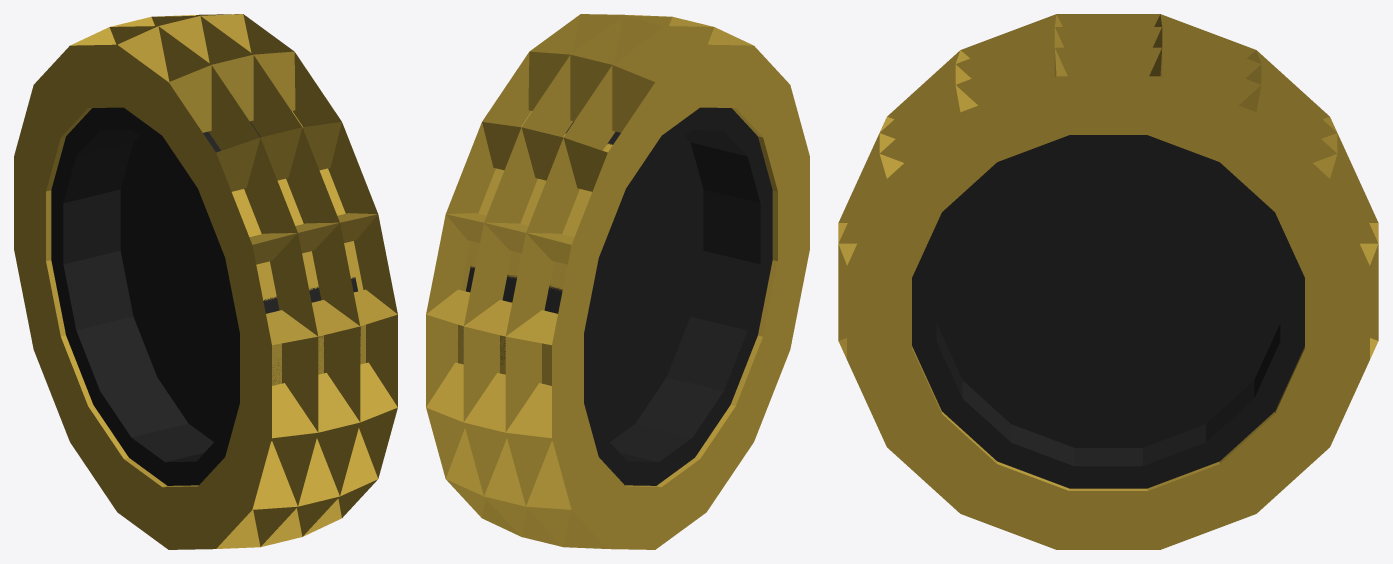
Rendered from smalltireworn.obj.
3 renders of one model, left to right at view 1: azimuth 30°, elevation 25°; view 2: azimuth 150°, elevation 25°; view 3: azimuth 270°, elevation 25°, orthographic.
Parts seen in each view (by area): view 1: tire, rim; view 2: tire, rim; view 3: tire, rim.
Boxes of the visible parts, bbox=[...] form: tire: bbox=[14, 14, 397, 549]; rim: bbox=[51, 107, 360, 485]; tire: bbox=[426, 14, 809, 549]; rim: bbox=[463, 107, 772, 485]; tire: bbox=[838, 14, 1378, 549]; rim: bbox=[912, 135, 1304, 488].
Size of the model in its own units: 0.2046 by 0.7496 by 0.7496.
